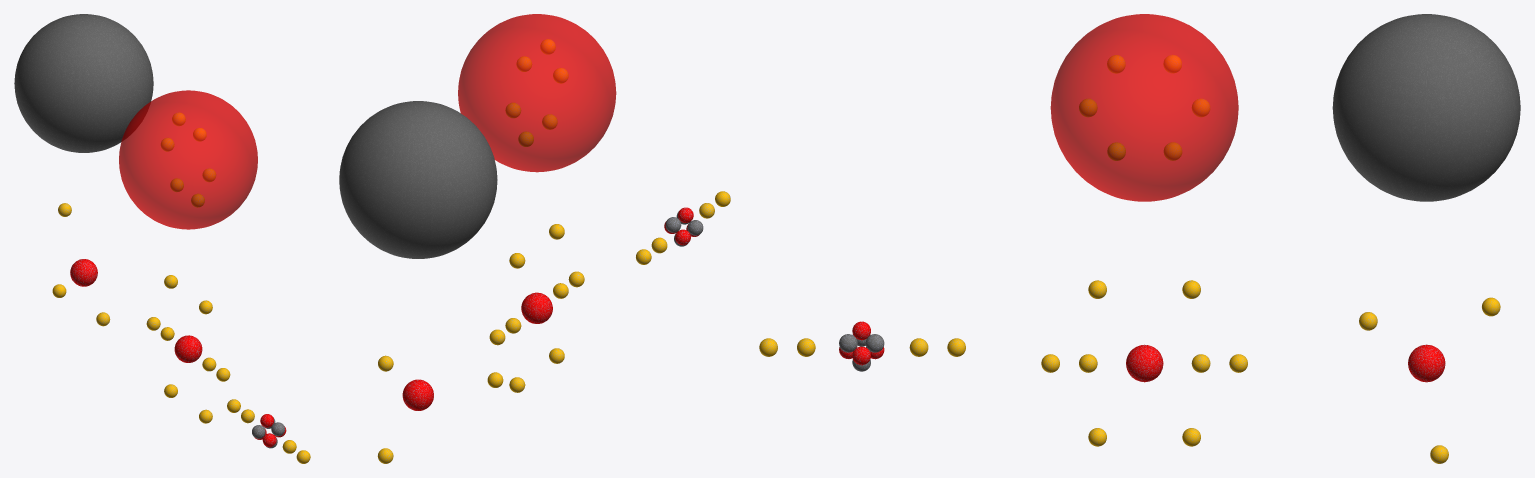
3 renders of one model, left to right at view 1: azimuth 30°, elevation 25°; view 2: azimuth 150°, elevation 25°; view 3: azimuth 270°, elevation 25°, orthographic. The views are drawn at different scales.
Parts seen in each view (by area): view 1: Thomson, Dalton, Bohr, Rutherford; view 2: Dalton, Thomson, Bohr, Rutherford; view 3: Dalton, Thomson, Rutherford, Bohr.
Part boxes in pixels (x1,y1,x2,y2): Thomson: (119,90,257,229); Dalton: (14,14,153,152); Bohr: (174,335,202,362); Rutherford: (70,259,97,286); Dalton: (339,101,497,258); Thomson: (458,14,616,172); Bohr: (521,292,552,323); Rutherford: (402,379,433,410); Dalton: (1332,14,1520,201); Thomson: (1050,14,1238,201); Rutherford: (1408,344,1445,382); Bohr: (1126,344,1163,382).
Size of the model in its own units: 394 by 1594 by 981.
